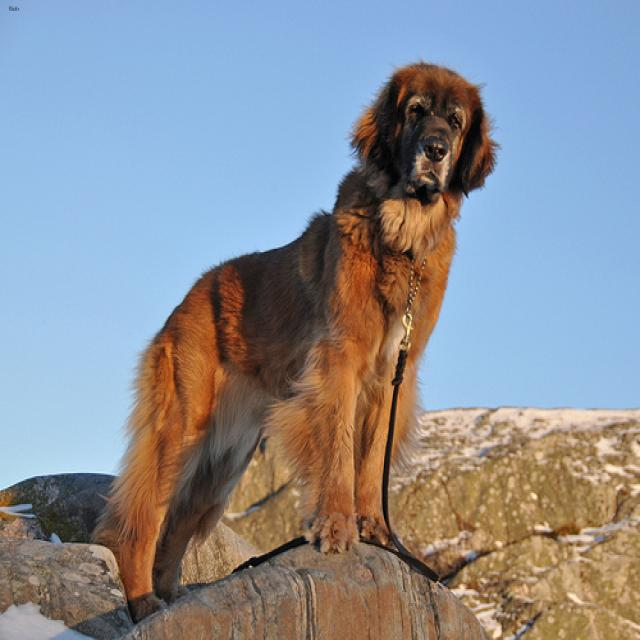dog-leonberger: (82, 51, 503, 634)
